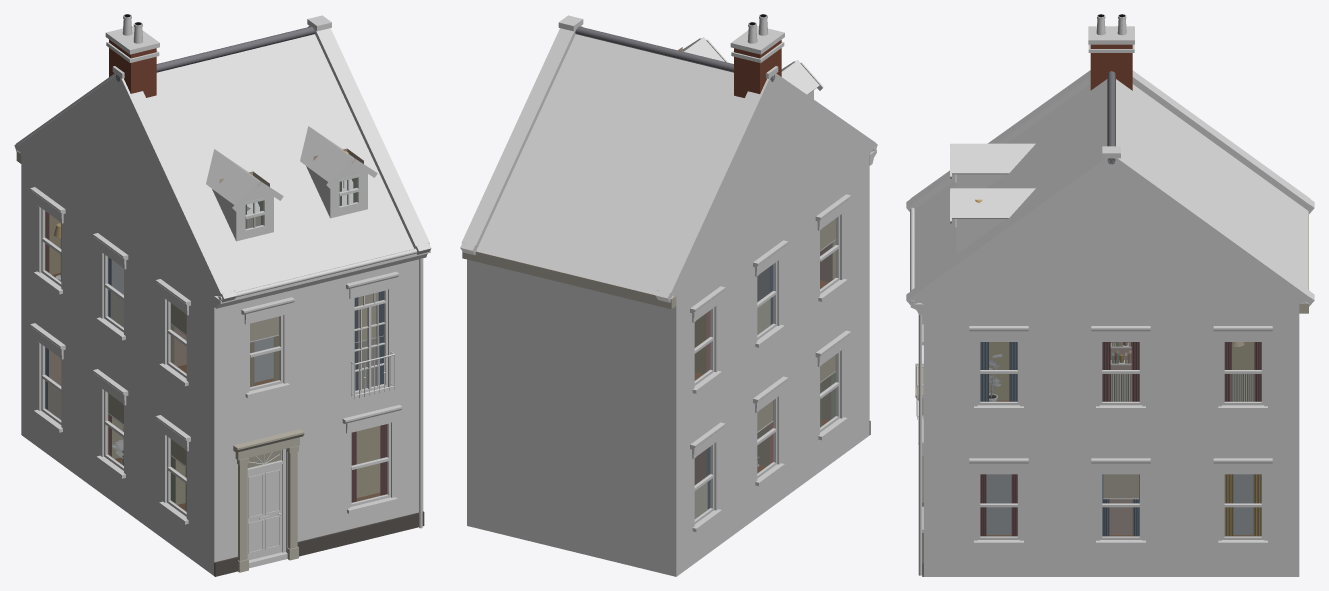
The model's file is GateStreet_Bend4.glb.
3 renders of one model, left to right at view 1: azimuth 30°, elevation 25°; view 2: azimuth 150°, elevation 25°; view 3: azimuth 270°, elevation 25°, orthographic. The views are drawn at different scales.
Parts seen in each view (by area): view 1: GateStreet_Bend4; view 2: GateStreet_Bend4; view 3: GateStreet_Bend4.
Boxes of the visible parts, <box> form: GateStreet_Bend4: <box>14,14,431,576</box>; GateStreet_Bend4: <box>460,14,877,576</box>; GateStreet_Bend4: <box>906,14,1314,576</box>.
Size of the model in its own units: 5.24 by 11.02 by 8.7.
